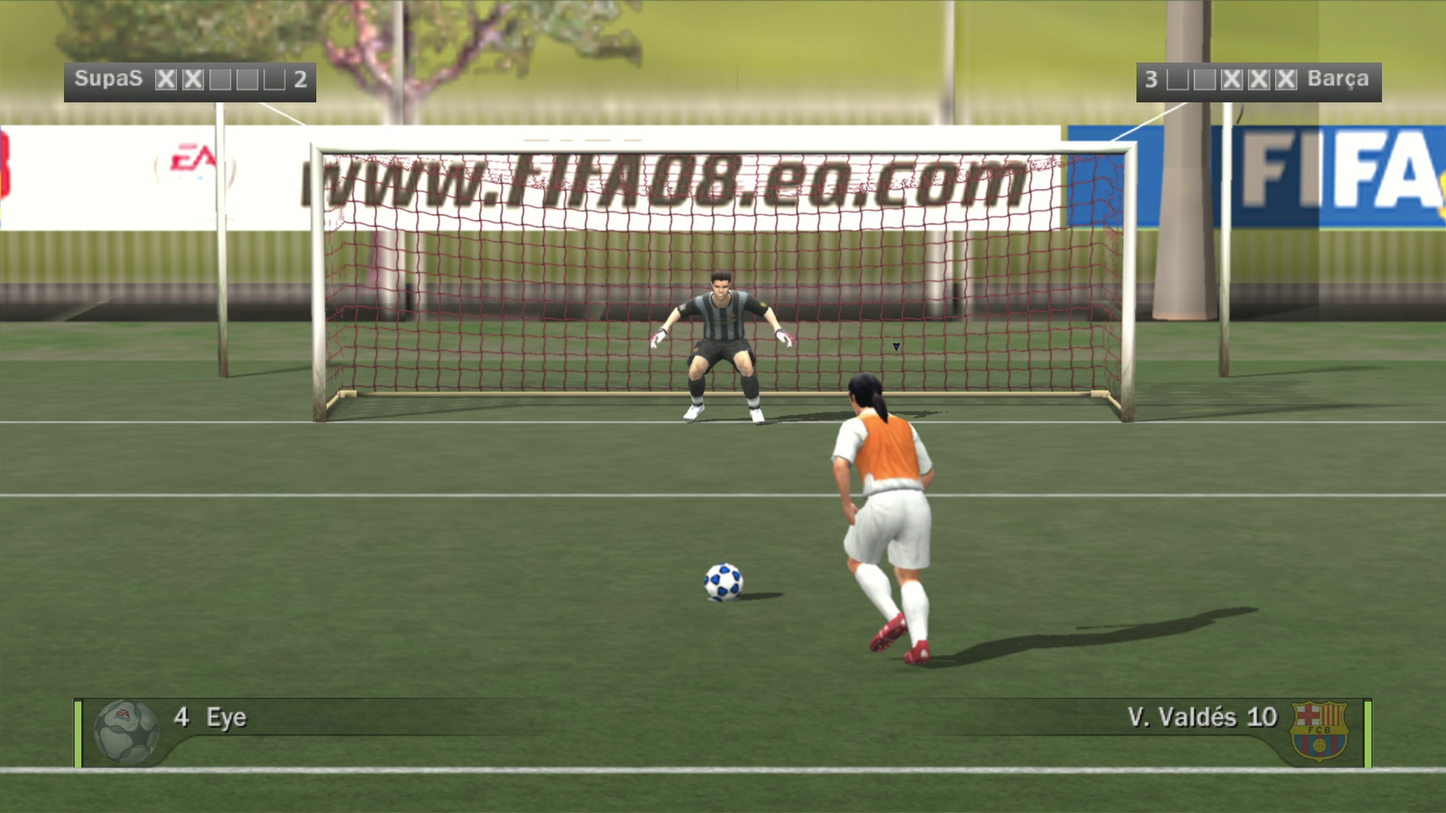ball: (683, 540, 724, 581)
goal_post: (0, 36, 718, 286)
keeper: (578, 199, 723, 348)
kicker: (771, 230, 887, 517)
